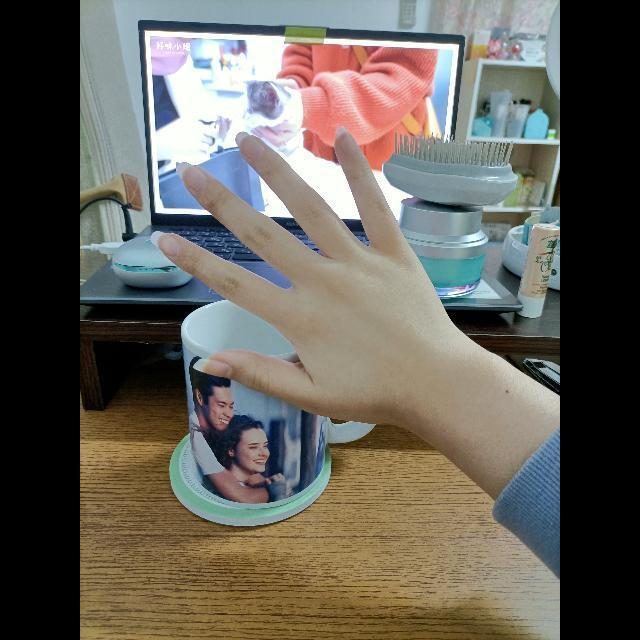bare_hand: (158, 127, 443, 463)
